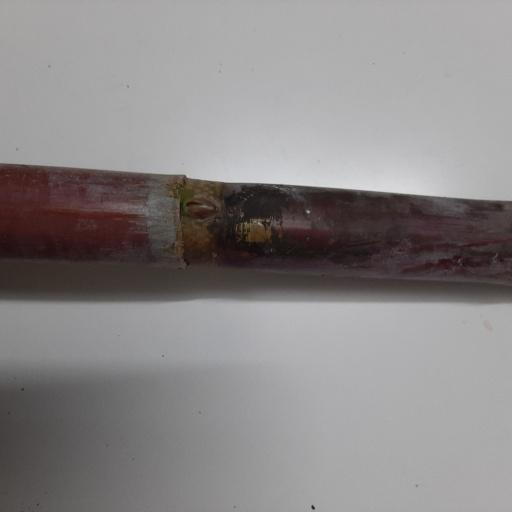Bud: (180, 195, 220, 221)
